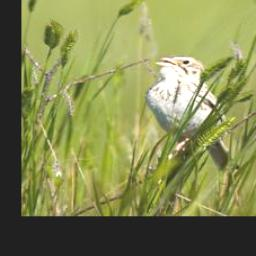Sparrow: (143, 54, 238, 170)
